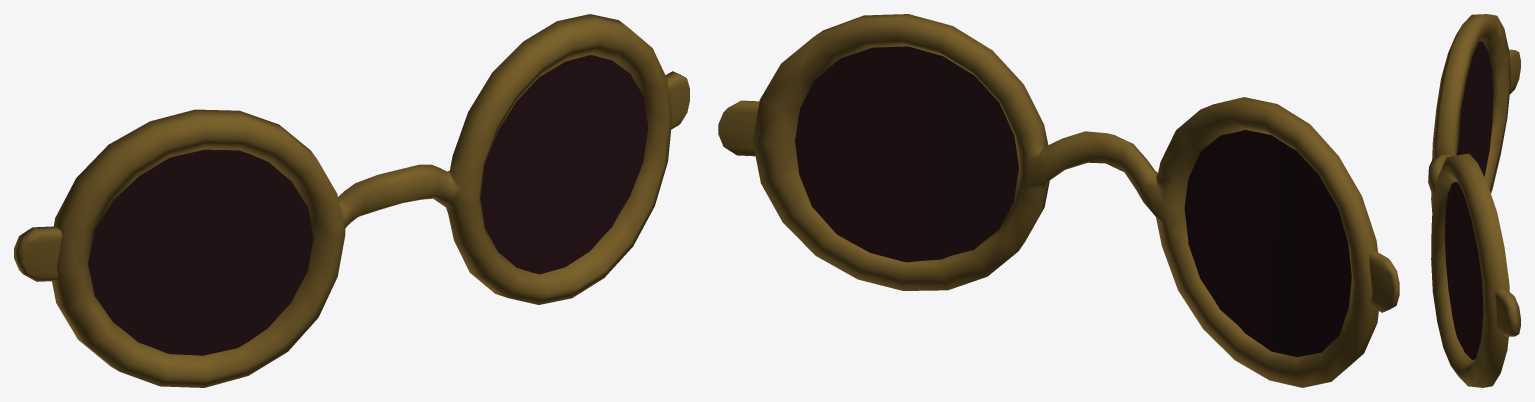
File: AccessoryGlassMini0.glb
3 renders of one model, left to right at view 1: azimuth 30°, elevation 25°; view 2: azimuth 150°, elevation 25°; view 3: azimuth 270°, elevation 25°, orthographic. The views are drawn at different scales.
Parts seen in each view (by area): view 1: Accessory__mAccessory; view 2: Accessory__mAccessory; view 3: Accessory__mAccessory.
Part boxes in pixels (bbox=[...]): Accessory__mAccessory: bbox=[14, 14, 689, 387]; Accessory__mAccessory: bbox=[718, 14, 1399, 387]; Accessory__mAccessory: bbox=[1428, 14, 1520, 387].
Bounding box in the file's own units: 3.84 × 1.48 × 0.5822.
1 material, 1 textured.
